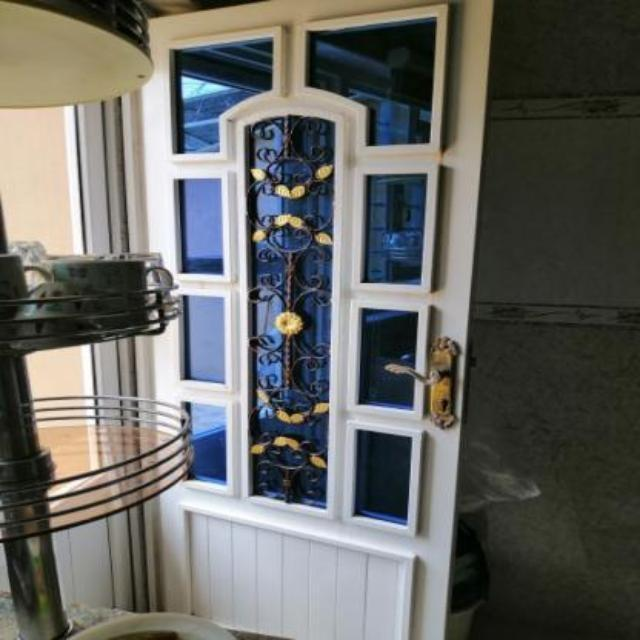door: (142, 0, 501, 640)
